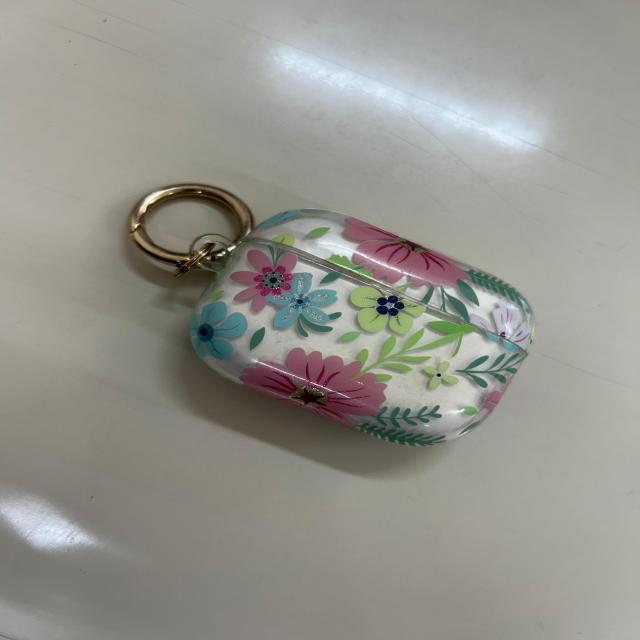inorganic: (123, 180, 536, 448)
